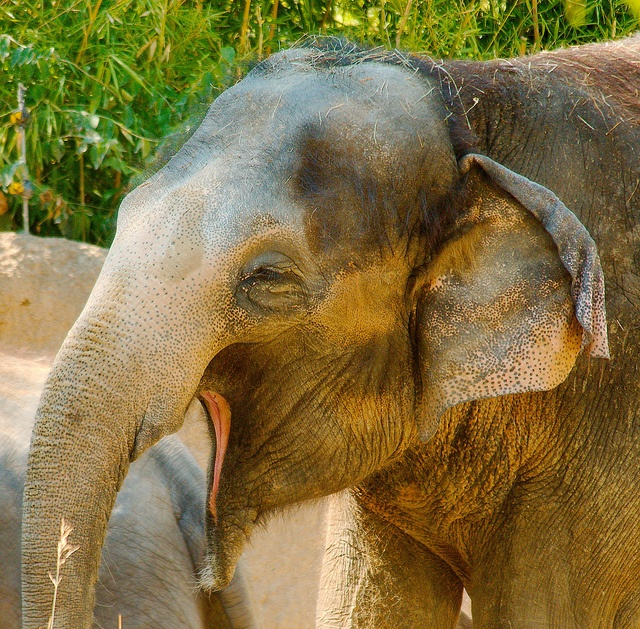elephant: (19, 30, 637, 628)
